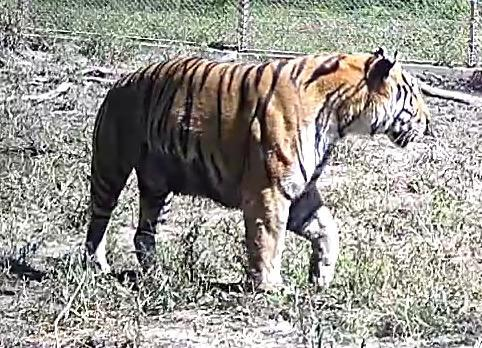tiger: (86, 48, 429, 288)
